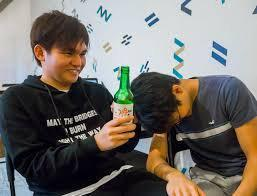Drunk: (54, 33, 87, 83)
